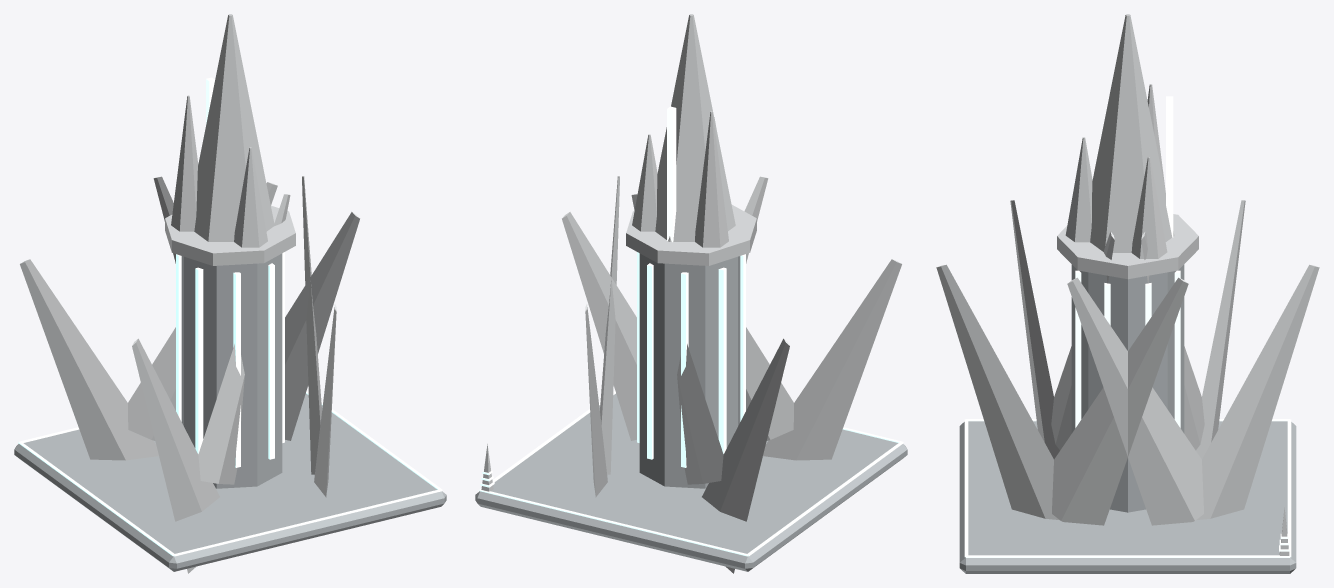
The model's file is zone_high_2_t3.glb.
The picture shows the model from 3 angles, left to right: view 1: azimuth 30°, elevation 25°; view 2: azimuth 150°, elevation 25°; view 3: azimuth 270°, elevation 25°; orthographic projection. The views are drawn at different scales.
Visible parts, largest first — view 1: zone_high_2_t3, detail; view 2: zone_high_2_t3, detail; view 3: zone_high_2_t3, detail.
Part boxes in pixels (x1,y1,x2,y2): zone_high_2_t3: (14,14,446,573); detail: (18,390,442,556); zone_high_2_t3: (475,14,907,573); detail: (479,390,903,556); zone_high_2_t3: (936,14,1319,573); detail: (964,419,1291,557).
Size of the model in its own units: 29.06 by 48.35 by 31.33.
